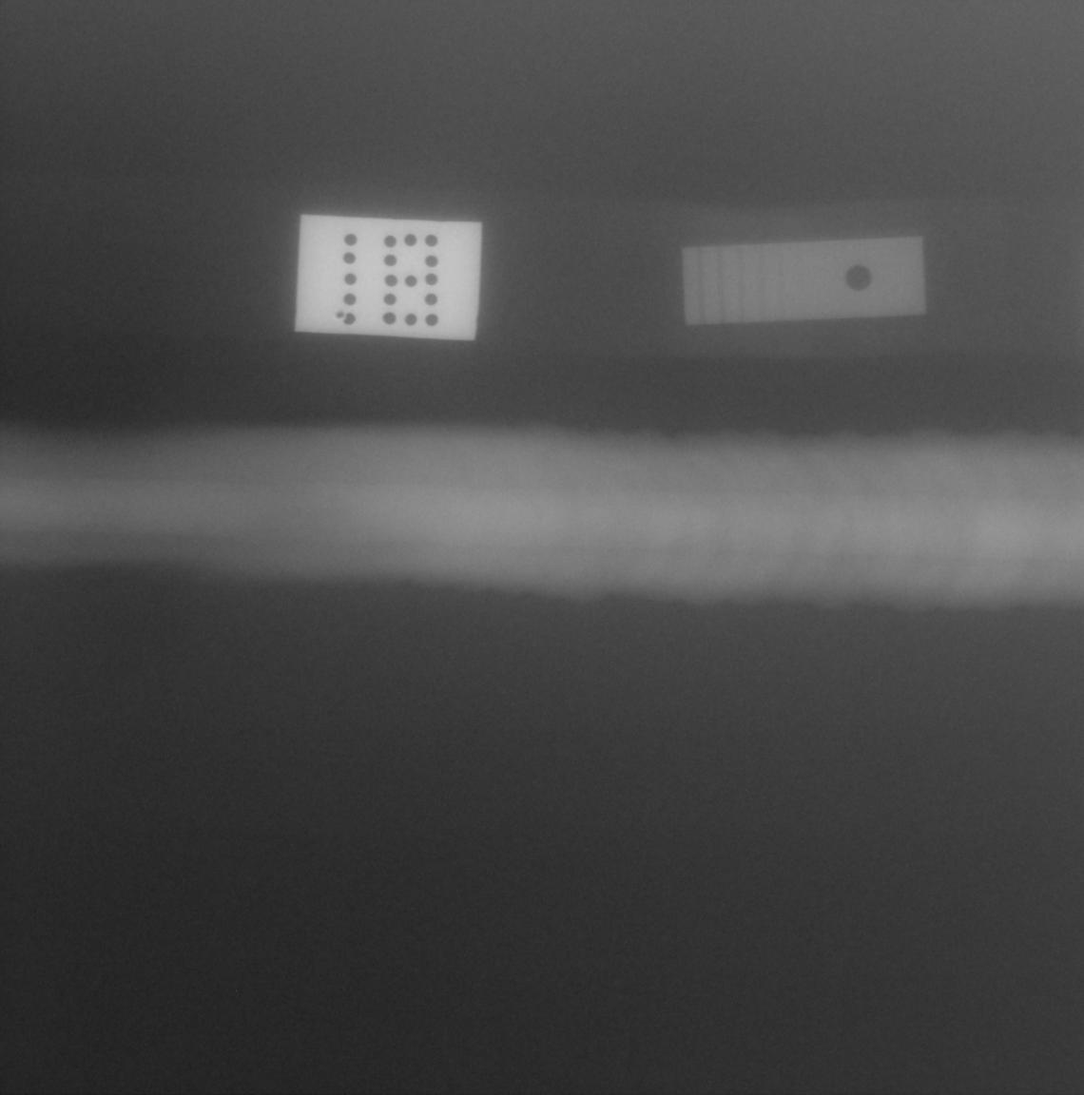Reference Standard 1: (682, 236, 927, 326)
